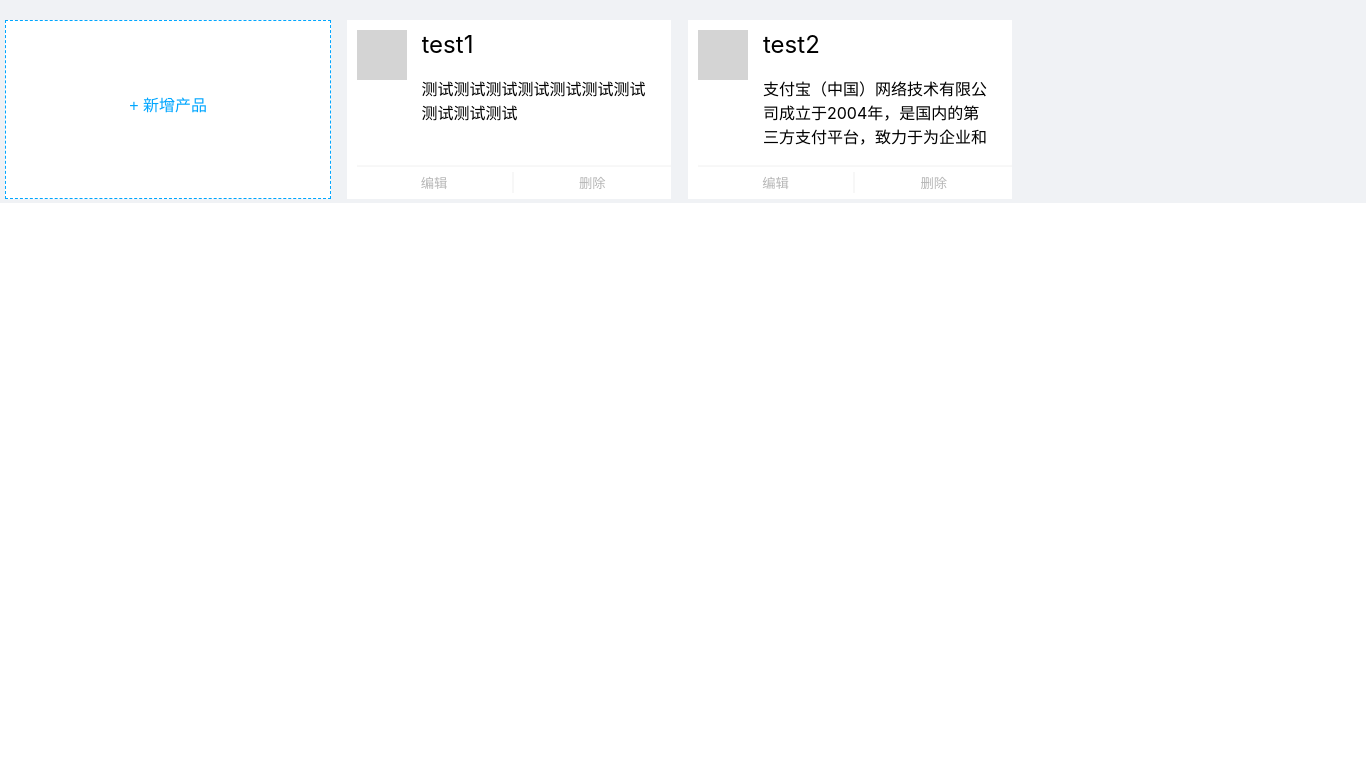
Test: test productList component › should render edit modal when click edit button
This screenshot has width=1366, height=768.
Step 1. Click the button with test id "edit_btn" below "测试测试测试测试测试测试测试测试测试测试" → [435, 182], box top-left (356, 172), bottom-right (514, 193)
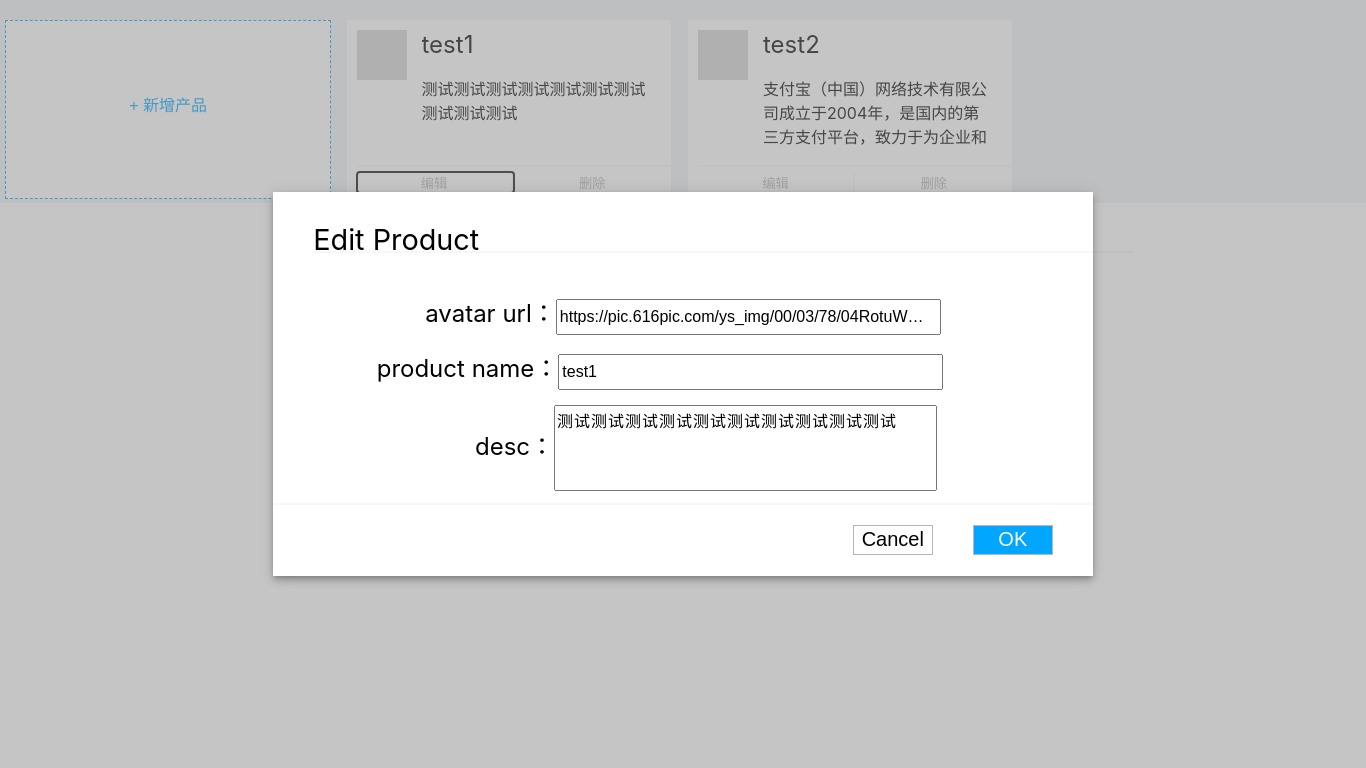
Result: the text "Edit Product" is shown at top-left (313, 222), bottom-right (1133, 253)
